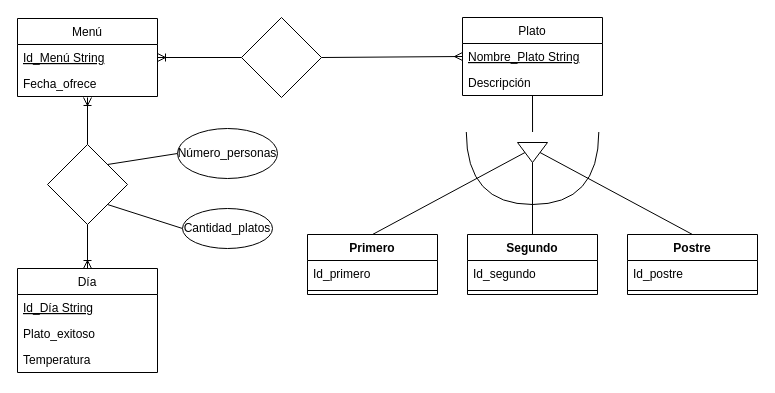
Image size: 775x393. Some labels were removed from this diagram. The shapes that lost their labels are listed below. From the top down, each one's centre as x and y in pixels, then its label:
point (281, 57): Conformar
point (87, 184): Tener
